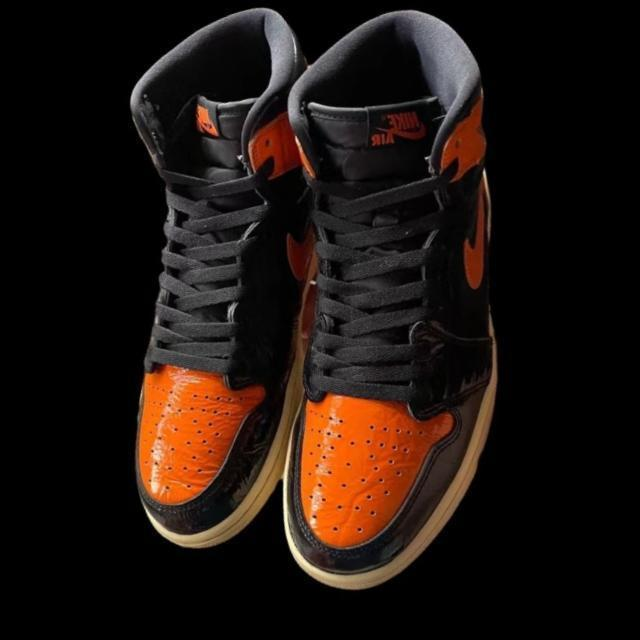nike original jordan 1: (139, 0, 611, 612), (4, 0, 428, 568)
